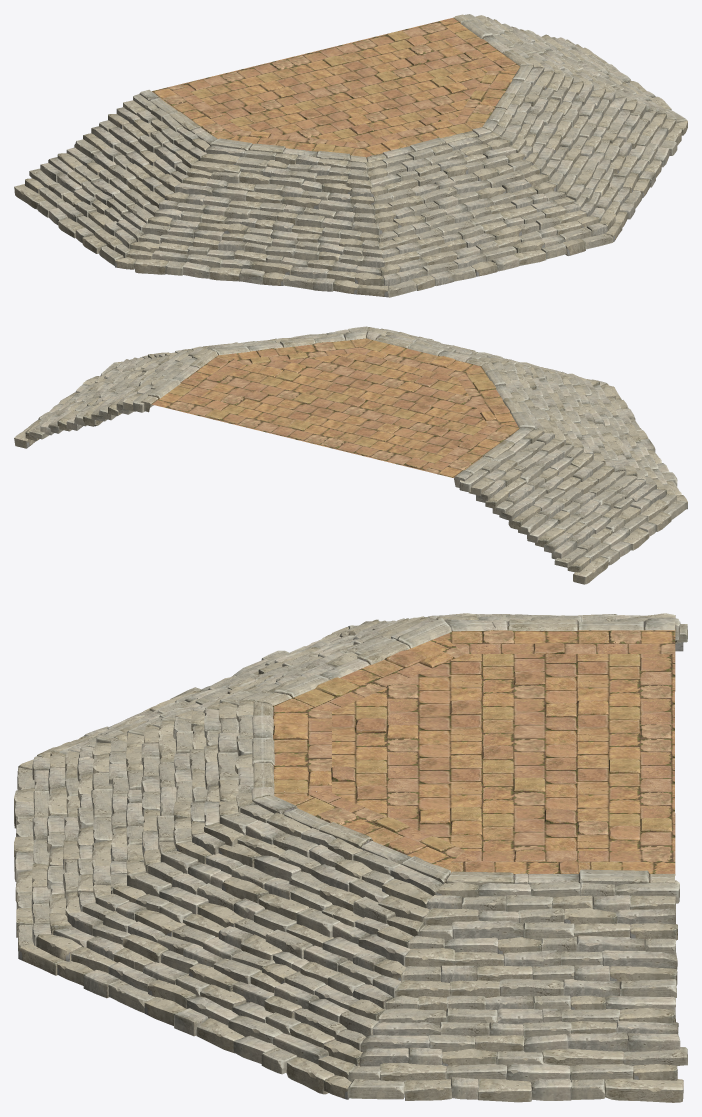
3 renders of one model, top to bottom at view 1: azimuth 30°, elevation 25°; view 2: azimuth 150°, elevation 25°; view 3: azimuth 270°, elevation 25°, orthographic. The views are drawn at different scales.
Visible parts, largest first — view 1: SM_Magic_Institute_01v02_Stairs_LOD0; view 2: SM_Magic_Institute_01v02_Stairs_LOD0; view 3: SM_Magic_Institute_01v02_Stairs_LOD0.
Part boxes in pixels (x1=…): SM_Magic_Institute_01v02_Stairs_LOD0: x1=14, y1=14, x2=687, y2=297; SM_Magic_Institute_01v02_Stairs_LOD0: x1=14, y1=326, x2=687, y2=584; SM_Magic_Institute_01v02_Stairs_LOD0: x1=14, y1=613, x2=687, y2=1102.
Bounding box in the file's own units: 34.82 × 4.44 × 21.3.
Materials: 2 (2 with a texture image).
